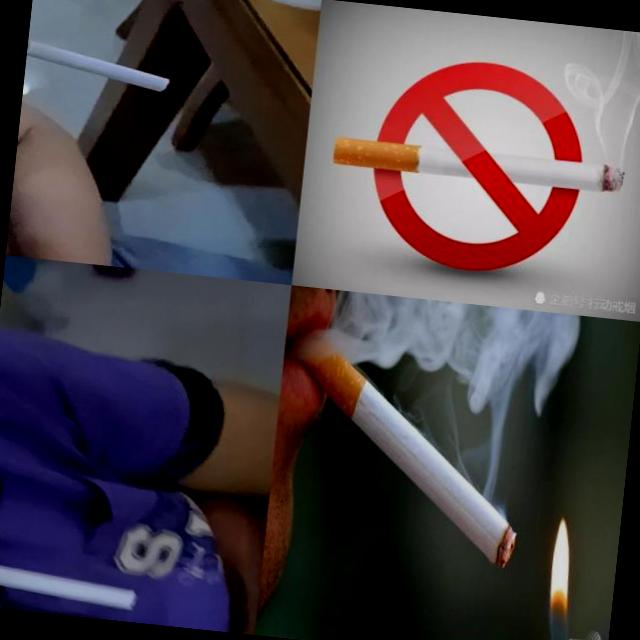smoke: (268, 322, 536, 570), (332, 136, 624, 193), (24, 32, 178, 92), (0, 552, 144, 613)
